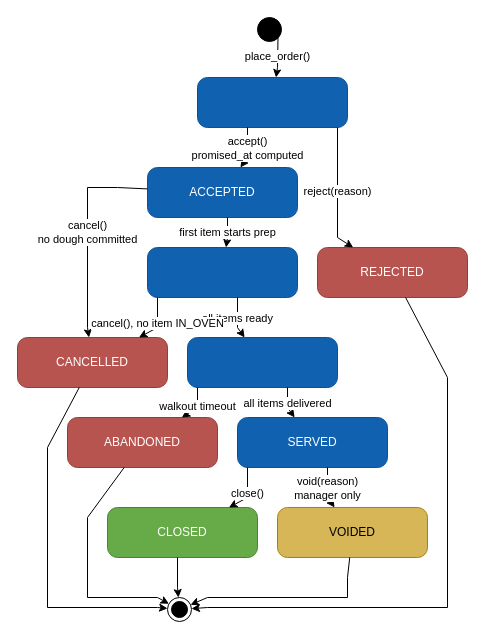
Image size: 485x639. Some labels were removed from this diagram. Each missing label, with the box of its shape:
IN_KITCHEN: (146, 246, 298, 298)
PLACED: (196, 76, 348, 128)
READY: (186, 336, 338, 388)
